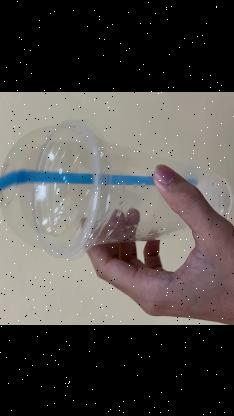Others: (0, 119, 231, 259)
